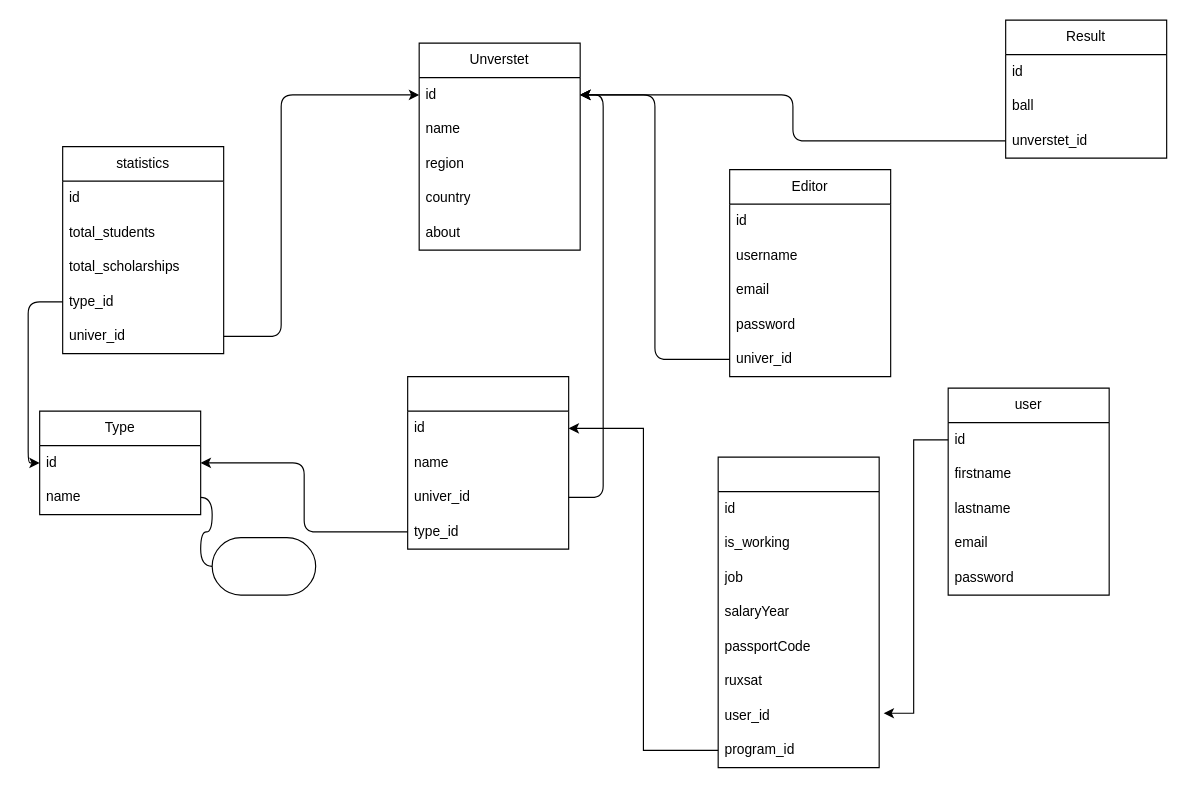
Image size: 1187x788. Some labels were removed from this diagram. Each missing label, with the box of its shape:
Bakalavr Magister: (211, 536, 316, 595)
oldStudent: (717, 456, 879, 768)
programs: (407, 375, 569, 549)
